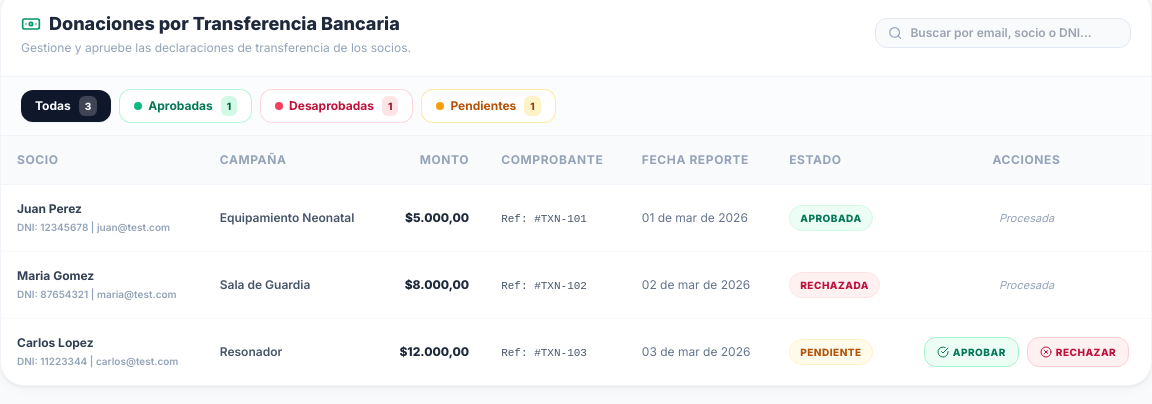
Test case: AdminTransfersTab - Vistas por estado › debería filtrar exclusivamente transferencias desaprobadas al seleccionar la pestaña Desaprobadas
Click the button "Desaprobadas 1".
click(337, 106)  # box [260,89,413,123]
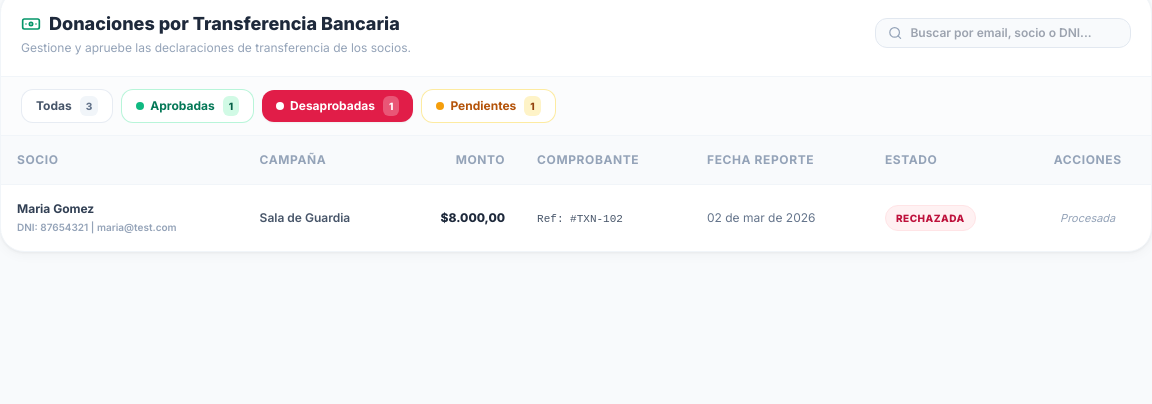
Expected: the text "Juan Perez" is gone
Expected: the text "Carlos Lopez" is gone
